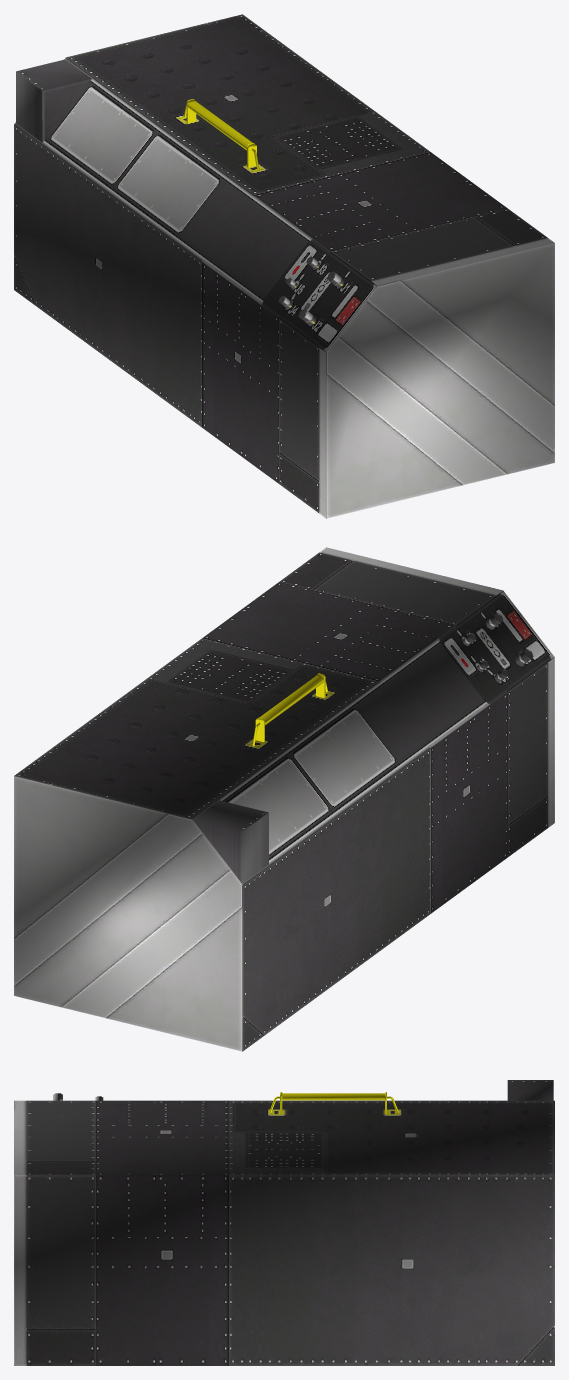
The model's file is Cosmic Origins Spectrograph.obj.
3 renders of one model, top to bottom at view 1: azimuth 30°, elevation 25°; view 2: azimuth 150°, elevation 25°; view 3: azimuth 270°, elevation 25°, orthographic. The views are drawn at different scales.
Visible parts, largest first — view 1: obj1; view 2: obj1; view 3: obj1.
Boxes of the visible parts, x1=… form: obj1: x1=14, y1=14, x2=554, y2=518; obj1: x1=14, y1=547, x2=554, y2=1051; obj1: x1=14, y1=1080, x2=554, y2=1365.
Bounding box in the file's own units: 67.66 × 67.87 × 159.
1 material, 1 textured.
